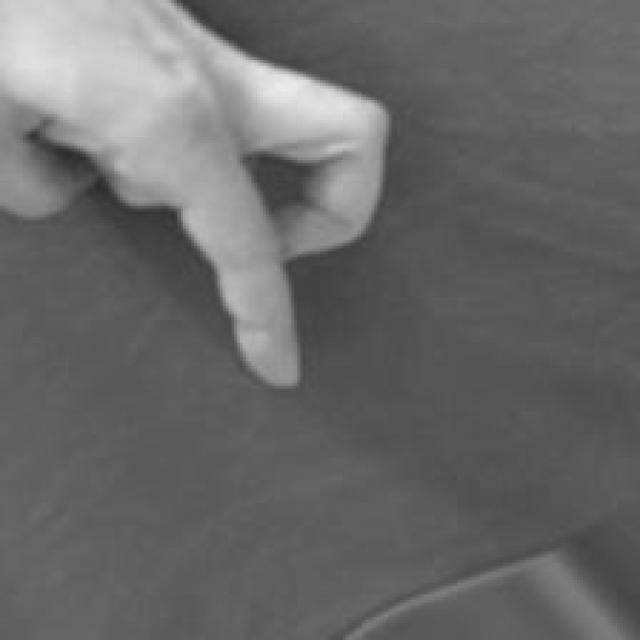P: (1, 0, 402, 409)
